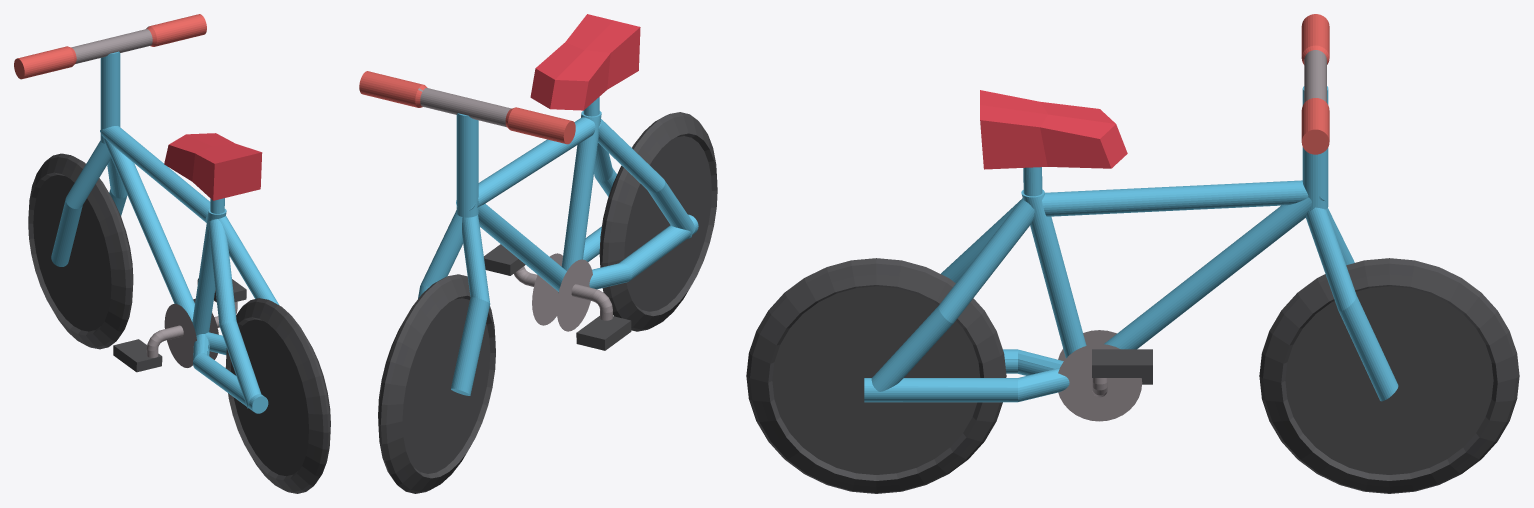
Rendered from BlueBike.fbx.
3 views of the same model, side by side, from view 1: azimuth 30°, elevation 25°; view 2: azimuth 150°, elevation 25°; view 3: azimuth 270°, elevation 25° (orthographic). The views are drawn at different scales.
Visible parts, largest first — view 1: Cylinder, Circle.001, Circle, Cube, Cylinder.002, Cylinder.001, Circle.003, Cube.002, Cylinder.004; view 2: Cylinder, Circle.001, Circle, Cube, Cylinder.002, Cylinder.001, Circle.003, Cube.002, Circle.002, Cube.001, Cylinder.004; view 3: Circle.001, Circle, Cylinder, Cube, Cylinder.002, Circle.002, Cube.001, Cylinder.001.
Boxes of the visible parts, x1=… form: Cylinder: x1=51, y1=126, x2=278, y2=413; Circle.001: x1=28, y1=153, x2=133, y2=349; Circle: x1=225, y1=298, x2=330, y2=493; Cube: x1=164, y1=133, x2=262, y2=200; Cylinder.002: x1=14, y1=14, x2=206, y2=79; Cylinder.001: x1=100, y1=51, x2=120, y2=143; Circle.003: x1=164, y1=304, x2=196, y2=367; Cube.002: x1=113, y1=339, x2=162, y2=372; Cylinder.004: x1=146, y1=325, x2=183, y2=357; Cylinder: x1=418, y1=97, x2=698, y2=395; Circle.001: x1=378, y1=274, x2=495, y2=493; Circle: x1=599, y1=112, x2=717, y2=331; Cube: x1=530, y1=14, x2=640, y2=110; Cylinder.002: x1=359, y1=71, x2=575, y2=144; Cylinder.001: x1=456, y1=113, x2=478, y2=217; Circle.003: x1=556, y1=259, x2=592, y2=331; Cube.002: x1=576, y1=316, x2=631, y2=350; Circle.002: x1=532, y1=253, x2=562, y2=325; Cube.001: x1=484, y1=244, x2=525, y2=275; Cylinder.004: x1=571, y1=284, x2=612, y2=320; Circle.001: x1=1259, y1=258, x2=1519, y2=493; Circle: x1=746, y1=258, x2=1006, y2=493; Cylinder: x1=864, y1=167, x2=1398, y2=402; Cube: x1=980, y1=90, x2=1127, y2=169; Cylinder.002: x1=1301, y1=14, x2=1329, y2=154; Circle.002: x1=1058, y1=344, x2=1142, y2=421; Cube.001: x1=1092, y1=349, x2=1152, y2=377; Cylinder.001: x1=1302, y1=86, x2=1328, y2=209.
Size of the model in its own units: 243 by 415 by 687.
